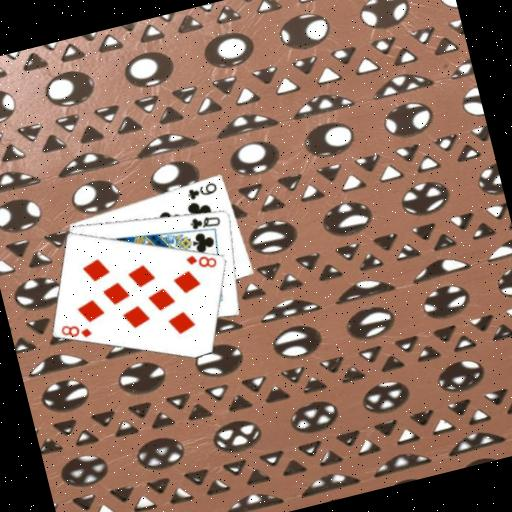8D: (182, 247, 220, 276), (57, 316, 95, 345)
9C: (183, 178, 220, 202)
QC: (186, 209, 223, 234)
